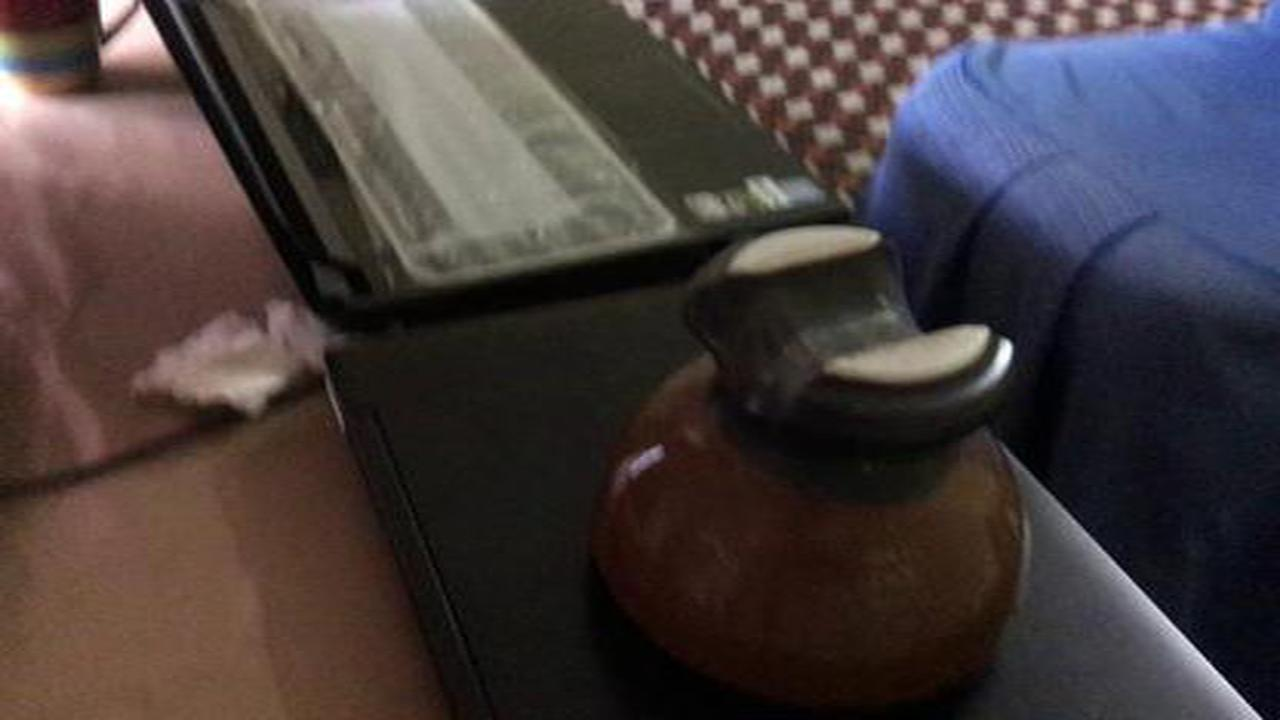insulator_pin: (560, 205, 1068, 715)
